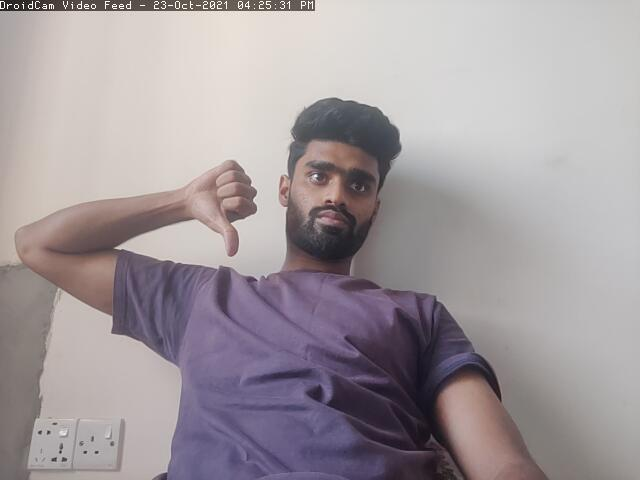ThumbsDown: (182, 153, 271, 257)
